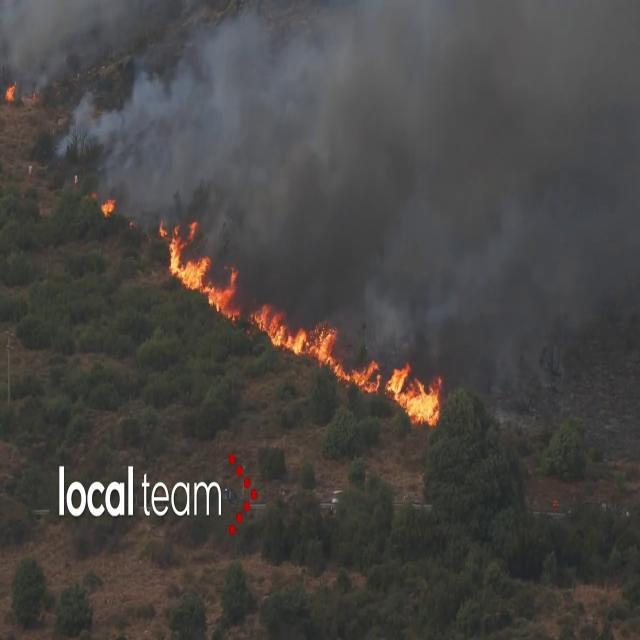Fire: (338, 350, 446, 427), (158, 217, 236, 318), (251, 304, 341, 368), (94, 188, 118, 222), (3, 72, 18, 106)
Smoke: (24, 0, 640, 378)
